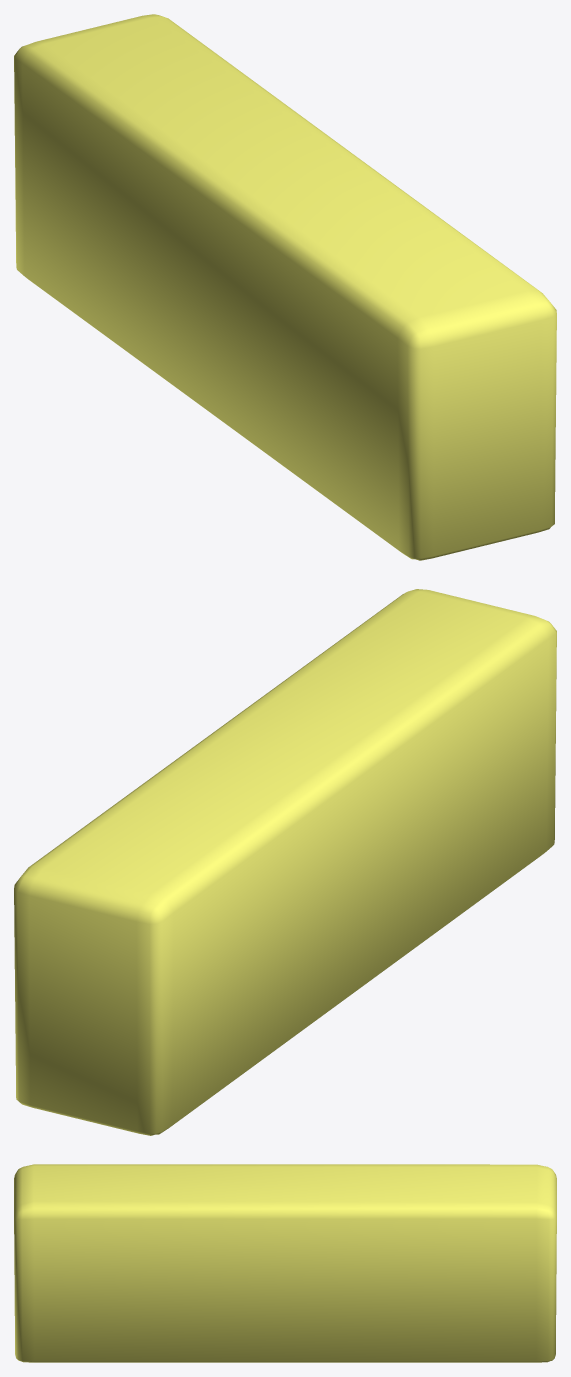
File: SM_SofaPieceC02.fbx
3 views of the same model, one above another, from view 1: azimuth 30°, elevation 25°; view 2: azimuth 150°, elevation 25°; view 3: azimuth 270°, elevation 25° (orthographic). The views are drawn at different scales.
Visible parts, largest first — view 1: SM_SofaPieceC02; view 2: SM_SofaPieceC02; view 3: SM_SofaPieceC02.
Boxes of the visible parts, box(x1,y1,x2,y2) form: SM_SofaPieceC02: box(14, 14, 556, 560); SM_SofaPieceC02: box(14, 589, 556, 1135); SM_SofaPieceC02: box(14, 1164, 556, 1362).
Size of the model in its own units: 0.4458 by 0.6544 by 2.07.
